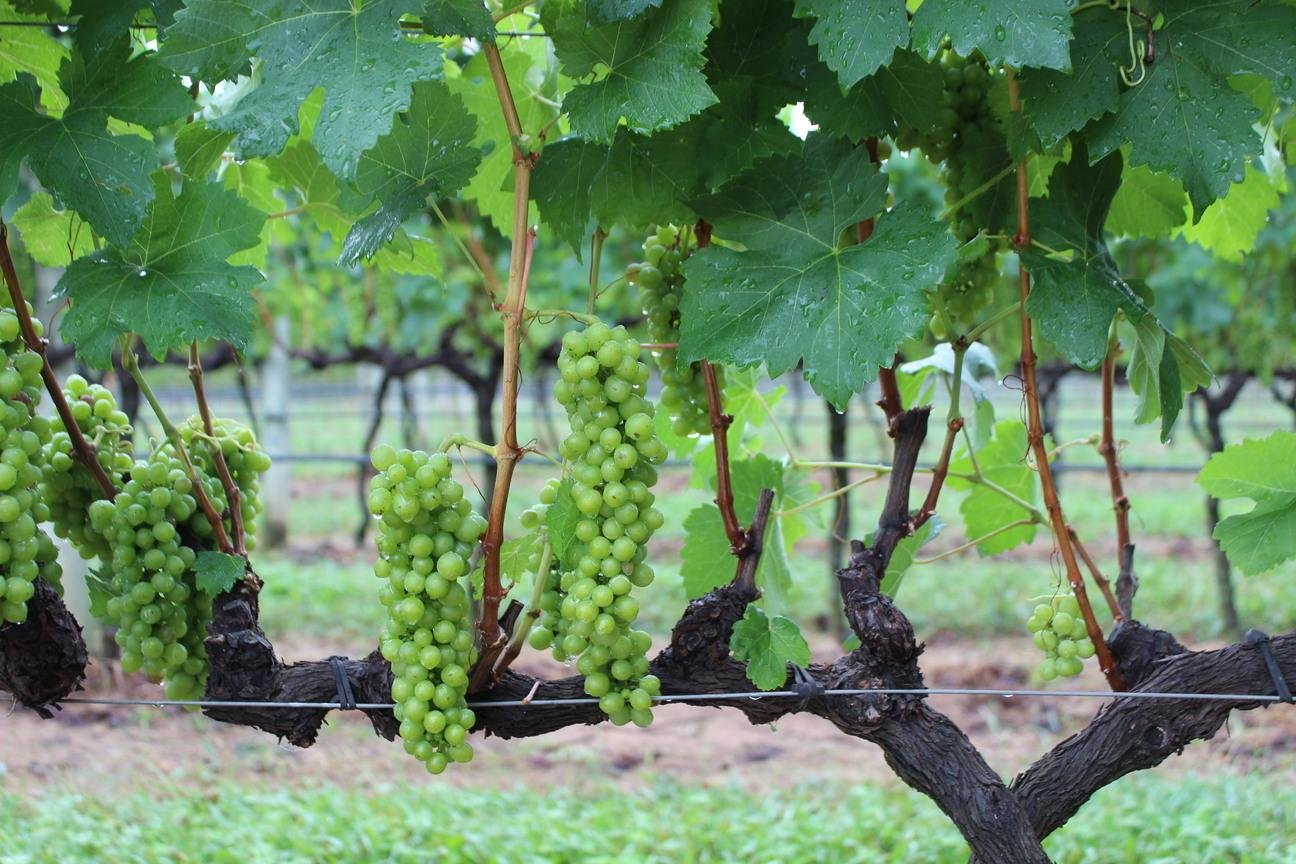leaf: (679, 136, 953, 407), (162, 0, 441, 175), (1086, 0, 1295, 217), (56, 171, 263, 367), (342, 82, 479, 264), (547, 0, 715, 140), (1197, 430, 1295, 572), (911, 0, 1071, 67), (796, 0, 908, 86), (948, 476, 1035, 553), (729, 606, 809, 688), (12, 191, 93, 267), (974, 418, 1036, 503), (422, 0, 492, 43), (194, 550, 245, 595), (949, 454, 972, 472)
